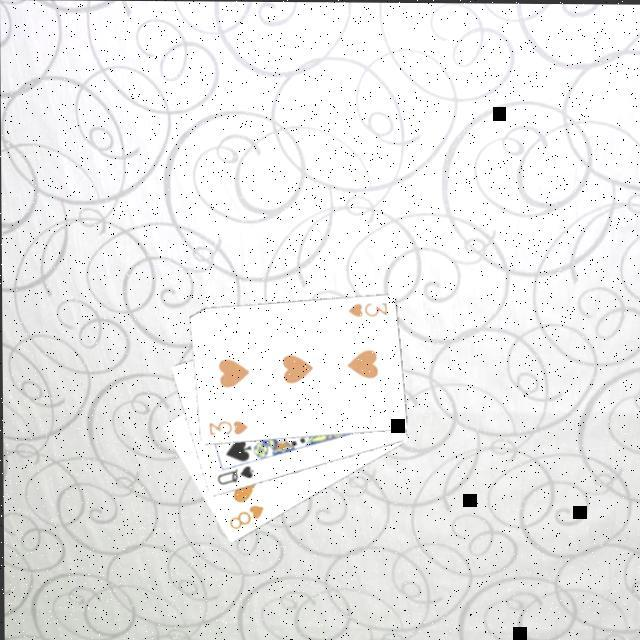3H: (346, 300, 392, 322), (207, 419, 252, 439)
8H: (226, 503, 268, 534)
QS: (215, 464, 258, 490)
